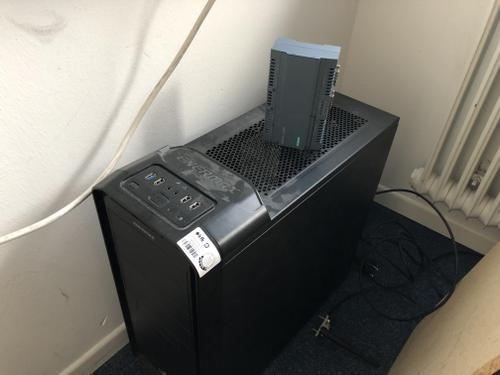device: (263, 38, 342, 151)
